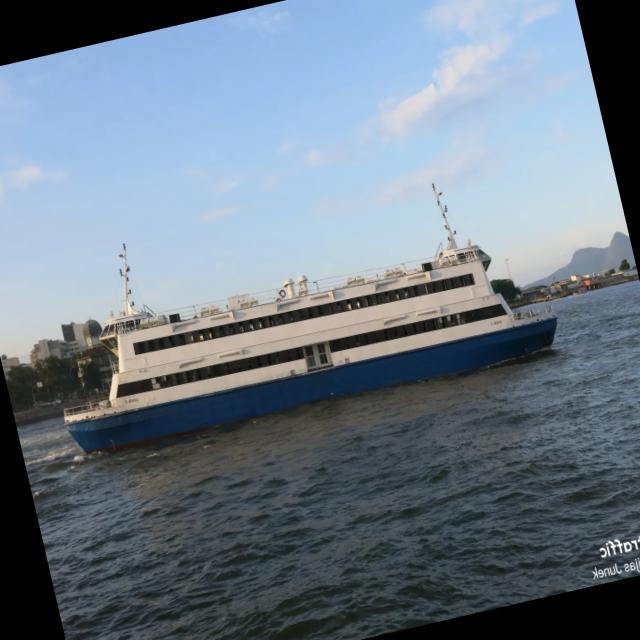Passenger: (64, 184, 557, 452)
